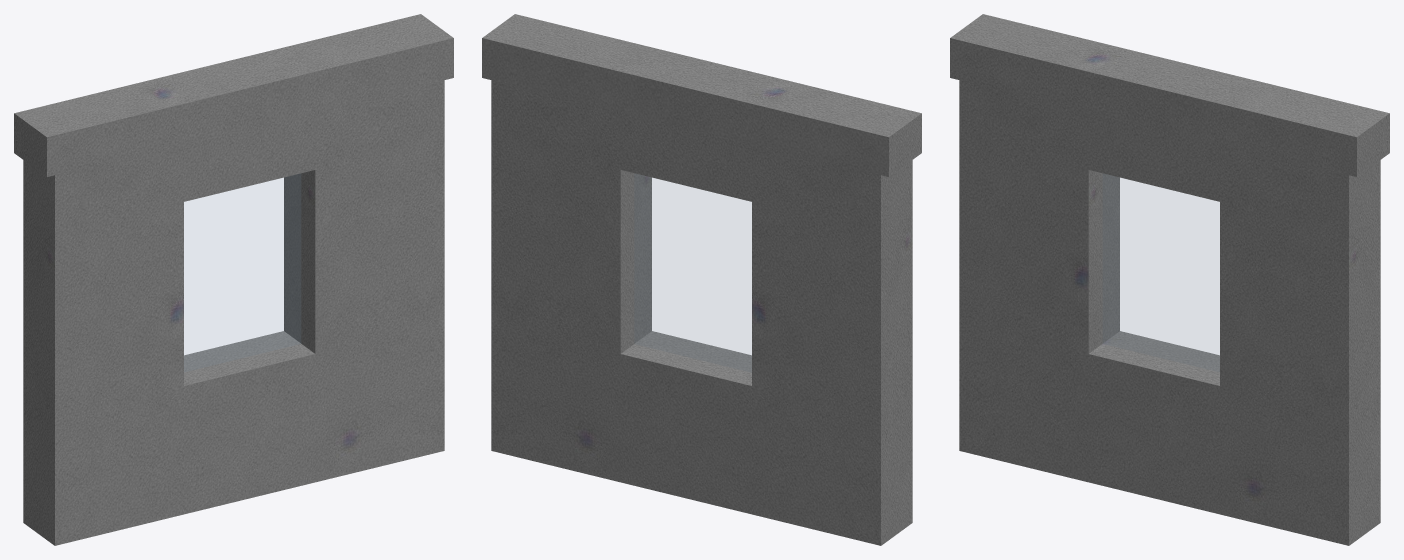
3 renders of one model, left to right at view 1: azimuth 30°, elevation 25°; view 2: azimuth 150°, elevation 25°; view 3: azimuth 330°, elevation 25°, orthographic.
Parts seen in each view (by area): view 1: AshRectangularWindowedWall.001; view 2: AshRectangularWindowedWall.001; view 3: AshRectangularWindowedWall.001.
Boxes of the visible parts, x1,y1,x2,y2 form: AshRectangularWindowedWall.001: (14,14,453,545); AshRectangularWindowedWall.001: (482,14,921,545); AshRectangularWindowedWall.001: (950,14,1389,545).
Size of what is drawn, in the model's own units: 3.03 by 2.93 by 0.4241.
Materials: 2 (2 with a texture image).
